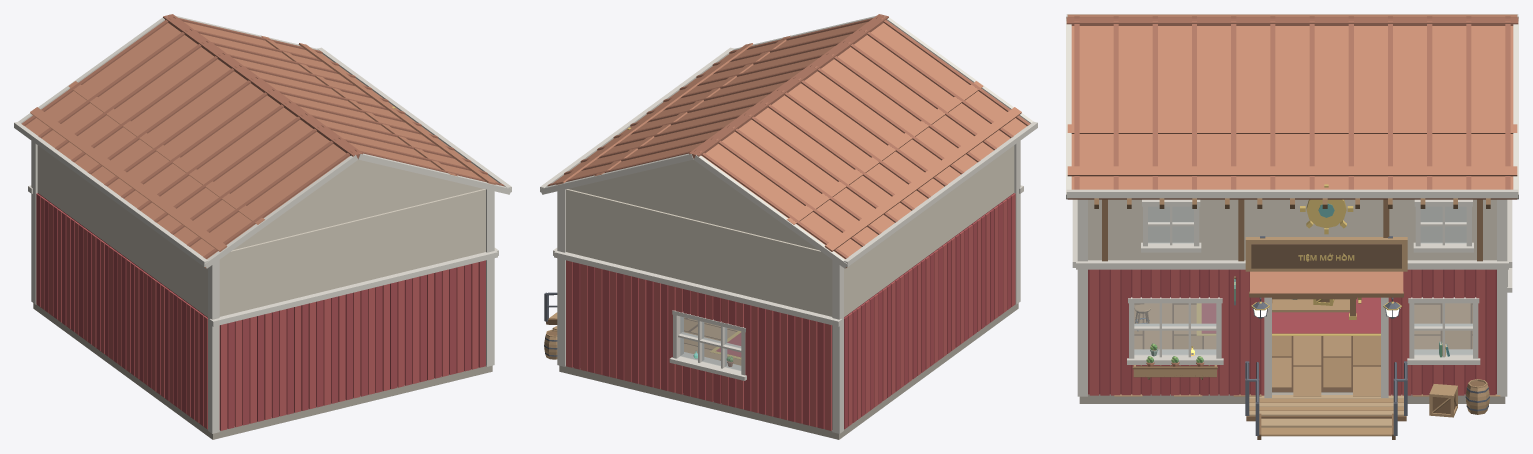
Rendered from LP_Shop_TiemMoHom.fbx.
3 renders of one model, left to right at view 1: azimuth 30°, elevation 25°; view 2: azimuth 150°, elevation 25°; view 3: azimuth 270°, elevation 25°, orthographic. The views are drawn at different scales.
Parts seen in each view (by area): view 1: Roof_Slab_-1.0, Wall_South_F2, Roof_Slab_1.0, Wall_Back_F2, Roof_GableWall, BasePlinth, BeltTrim_S, Roof_RidgeCap, Roof_Course_-1.0_3, Roof_Course_-1.0_2, CornerPost_-4.4_-4.9, Roof_EaveTrim_-1.0 (+95 smaller); view 2: Roof_Slab_-1.0, Wall_North_F2, Roof_Slab_1.0, Wall_Back_F2, Roof_GableWall, BasePlinth, BeltTrim_N, Roof_RidgeCap, Roof_Course_-1.0_3, Roof_Course_-1.0_2, CornerPost_-4.4_4.9, Win_NorthSun_Glass (+87 smaller); view 3: Roof_Slab_1.0, Wall_Front_F2, Roof_Course_1.0_3, Roof_EaveTrim_1.0, Roof_Course_1.0_2, Roof_RidgeCap, Win_EastS_Glass, Sign_Face, DoorHood_Roof, Atelier_RugBody, Win_EastN_Glass, BeltTrim_F (+77 smaller).
Part boxes in pixels (left/top/right/bottom): Roof_Slab_-1.0: left=22, top=20, right=349, bottom=267; Wall_South_F2: left=219, top=189, right=485, bottom=316; Roof_Slab_1.0: left=184, top=22, right=498, bottom=182; Wall_Back_F2: left=37, top=145, right=207, bottom=316; Roof_GableWall: left=233, top=159, right=483, bottom=249; BasePlinth: left=33, top=303, right=492, bottom=439; BeltTrim_S: left=209, top=251, right=497, bottom=326; Roof_RidgeCap: left=163, top=14, right=362, bottom=158; Roof_Course_-1.0_3: left=30, top=107, right=227, bottom=251; Roof_Course_-1.0_2: left=68, top=81, right=264, bottom=224; CornerPost_-4.4_-4.9: left=208, top=260, right=219, bottom=433; Roof_EaveTrim_-1.0: left=14, top=121, right=208, bottom=266; Roof_Slab_-1.0: left=702, top=20, right=1029, bottom=267; Wall_North_F2: left=566, top=189, right=832, bottom=316; Roof_Slab_1.0: left=553, top=22, right=867, bottom=182; Wall_Back_F2: left=844, top=145, right=1014, bottom=316; Roof_GableWall: left=568, top=159, right=818, bottom=249; BasePlinth: left=559, top=303, right=1018, bottom=439; BeltTrim_N: left=554, top=251, right=842, bottom=326; Roof_RidgeCap: left=689, top=14, right=888, bottom=158; Roof_Course_-1.0_3: left=824, top=107, right=1021, bottom=251; Roof_Course_-1.0_2: left=787, top=81, right=983, bottom=224; CornerPost_-4.4_4.9: left=832, top=260, right=843, bottom=433; Win_NorthSun_Glass: left=680, top=316, right=741, bottom=370; Roof_Slab_1.0: left=1067, top=26, right=1517, bottom=199; Wall_Front_F2: left=1088, top=199, right=1496, bottom=260; Roof_Course_1.0_3: left=1067, top=166, right=1517, bottom=176; Roof_EaveTrim_1.0: left=1066, top=189, right=1518, bottom=198; Roof_Course_1.0_2: left=1067, top=124, right=1517, bottom=133; Roof_RidgeCap: left=1066, top=17, right=1518, bottom=25; Win_EastS_Glass: left=1134, top=303, right=1216, bottom=354; Sign_Face: left=1251, top=244, right=1401, bottom=268; DoorHood_Roof: left=1250, top=271, right=1403, bottom=297; Atelier_RugBody: left=1201, top=297, right=1380, bottom=333; Win_EastN_Glass: left=1414, top=303, right=1472, bottom=354; BeltTrim_F: left=1076, top=259, right=1508, bottom=269.
Bounding box in the file's own units: 11.39 × 7.9 × 10.63.
